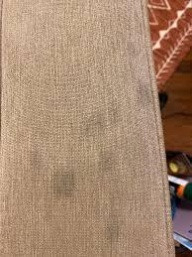oil: (82, 117, 119, 172), (45, 164, 75, 196), (132, 85, 154, 106)
